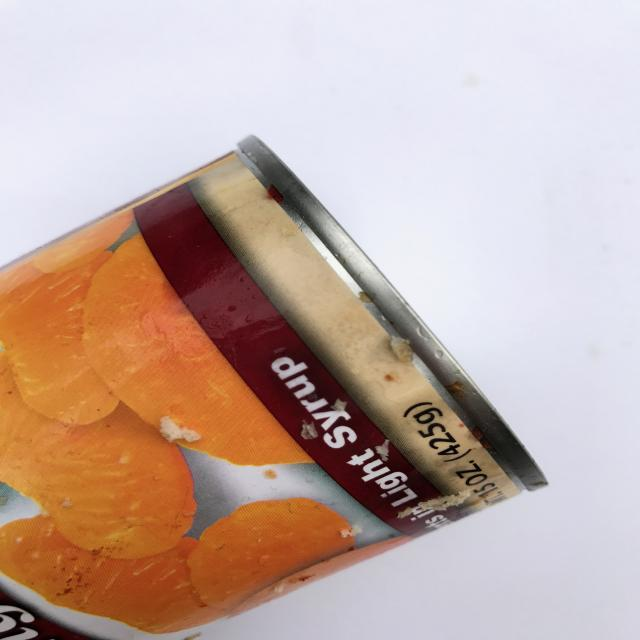metal: (3, 134, 550, 640)
